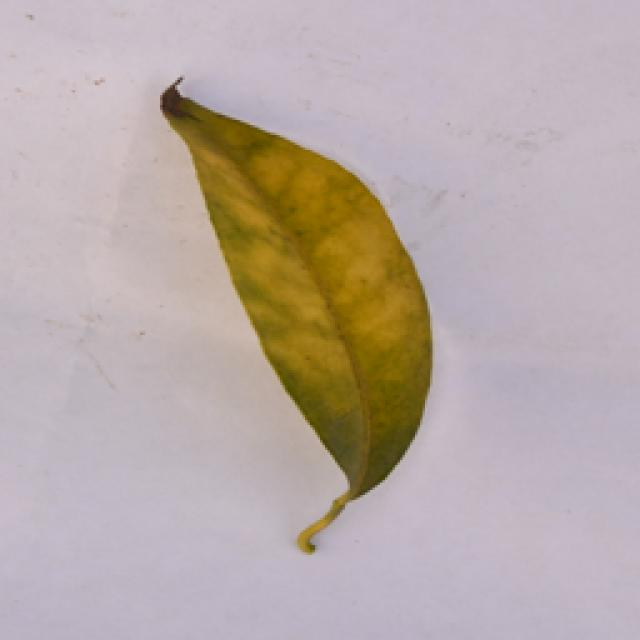canker: (136, 104, 480, 507)
